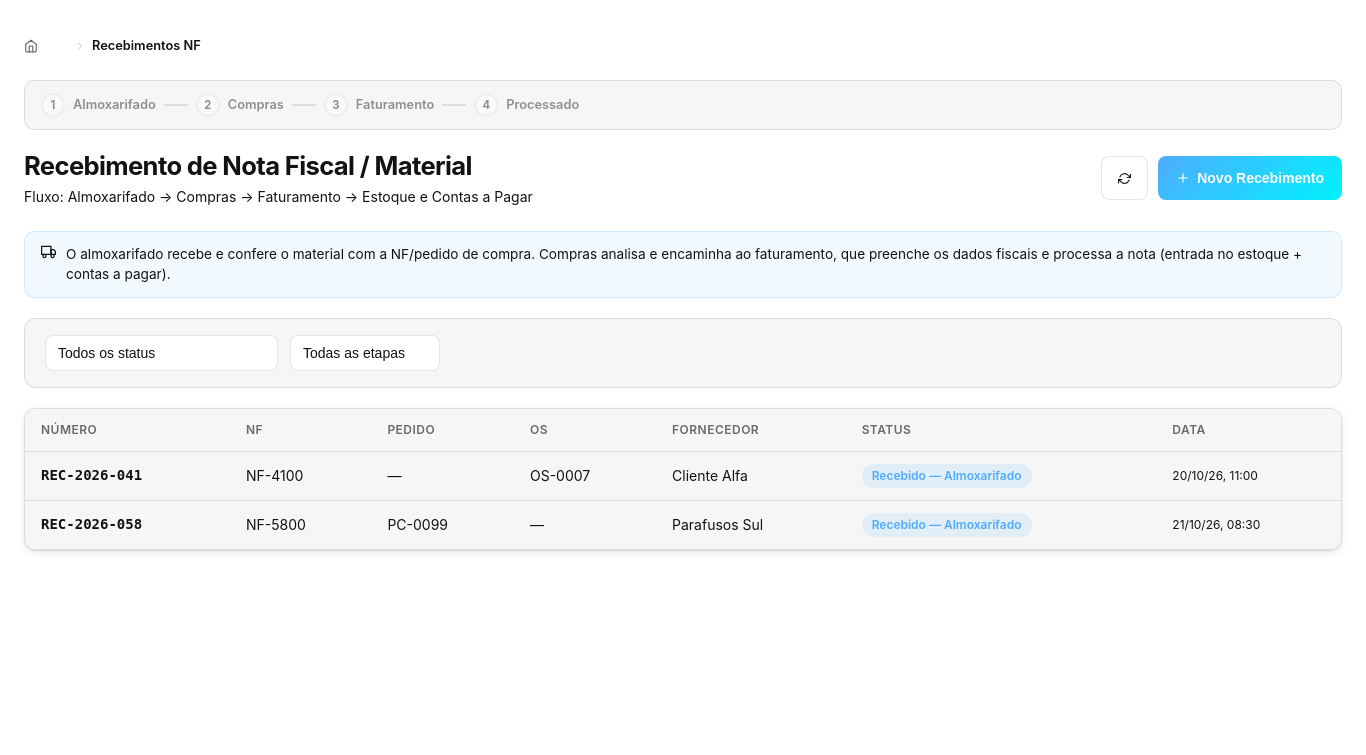
(f) a lista mostra a coluna OS (os_numero ou —) e o detalhe mostra a OS
Expected: the cell with test id "receb-lista-os-41" reads "OS-0007", [530,467,590,484]
Expected: the cell with test id "receb-lista-os-58" reads "—", [530,516,544,533]
Click the row that starts with "REC-2026-041".
click(683, 476)  # box [25,451,1341,500]
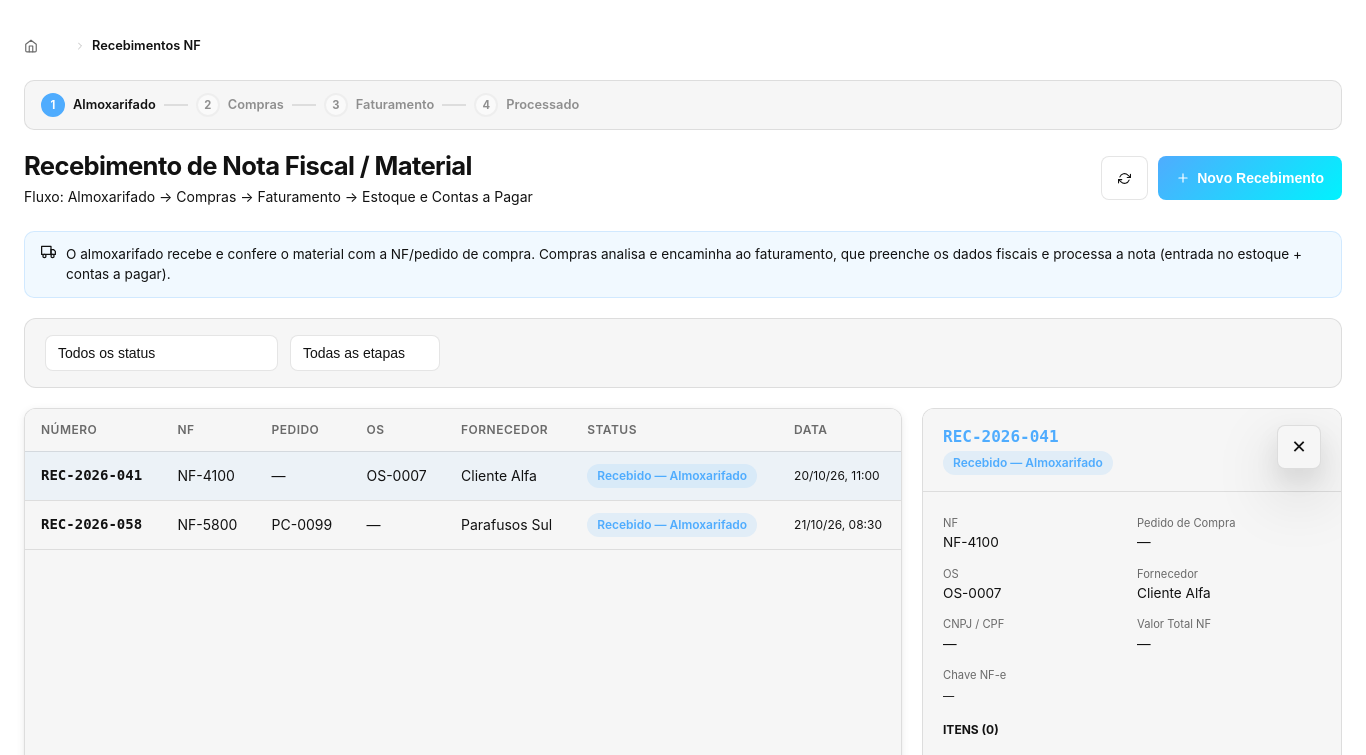
Now the element with test id "receb-detalhe-os" reads "OSOS-0007", box [943,566,1002,601]
